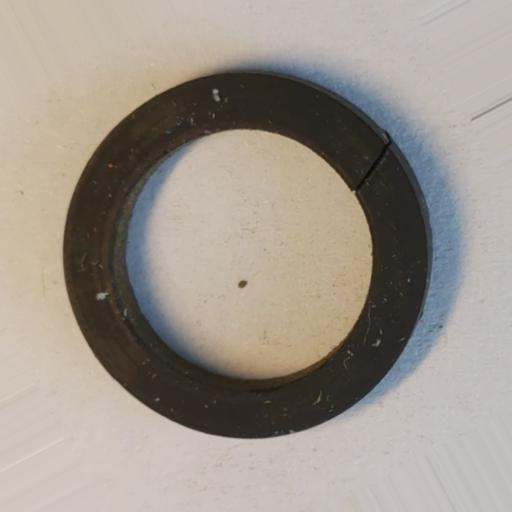defect: (353, 140, 392, 195)
